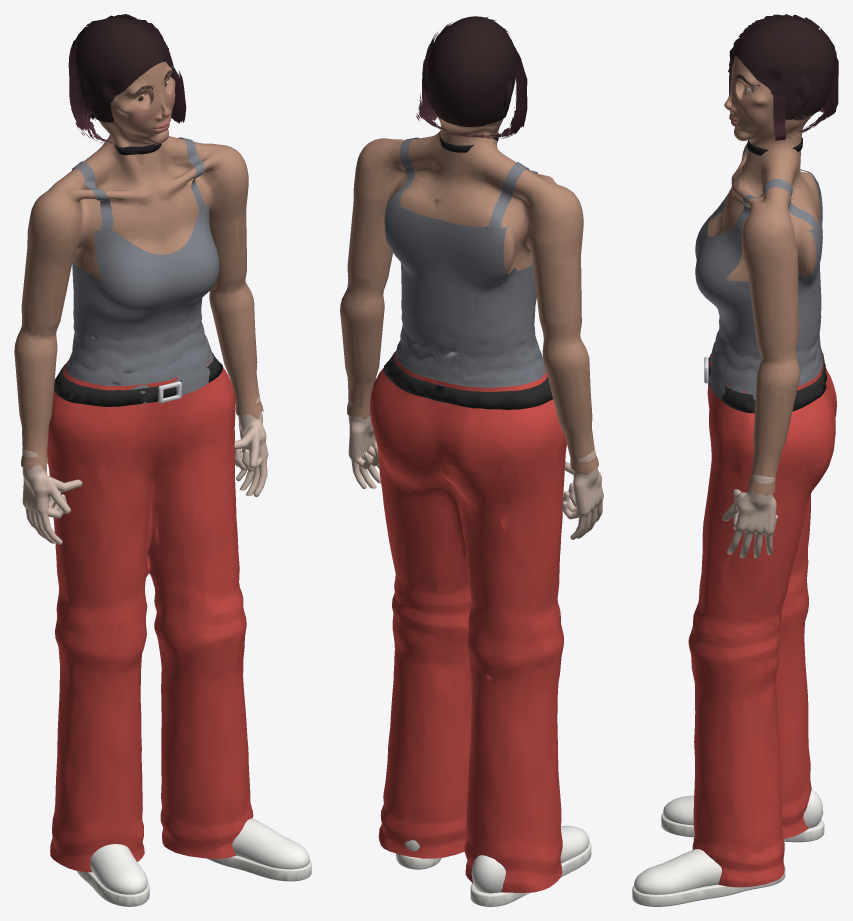
The model's file is heroine.glb.
3 views of the same model, side by side, from view 1: azimuth 30°, elevation 25°; view 2: azimuth 150°, elevation 25°; view 3: azimuth 270°, elevation 25° (orthographic). The views are drawn at different scales.
Parts seen in each view (by area): view 1: legL, legR, tank, skin, trousers, hair, armR, armL, foreR, foreL, belt, fingersR (+4 smaller); view 2: legR, legL, tank, trousers, skin, hair, armR, armL, foreR, foreL, belt, fingersR (+4 smaller); view 3: legL, tank, legR, skin, hair, armL, trousers, foreL, fingersL, belt, fistL, straps.
Part boxes in pixels (box(x1,y1,x2,y2)): legL: box(147, 425, 311, 881); legR: box(47, 448, 166, 906); tank: box(66, 202, 219, 404); skin: box(49, 62, 224, 280); trousers: box(47, 354, 235, 472); hair: box(68, 14, 186, 144); armR: box(15, 185, 84, 358); armL: box(205, 143, 253, 312); foreR: box(14, 329, 57, 470); foreL: box(209, 283, 263, 419); belt: box(54, 352, 222, 406); fingersR: box(22, 449, 70, 544); legR: box(435, 449, 591, 906); legL: box(374, 434, 471, 869); tank: box(385, 198, 545, 403); trousers: box(369, 353, 566, 484); skin: box(381, 81, 556, 274); hair: box(416, 16, 527, 138); armR: box(526, 183, 584, 353); armL: box(344, 138, 402, 309); foreR: box(542, 340, 598, 475); foreL: box(340, 290, 384, 419); belt: box(383, 351, 552, 409); fingersR: box(570, 449, 603, 539); legL: box(632, 451, 833, 906); tank: box(695, 177, 822, 400); legR: box(661, 494, 824, 842); skin: box(707, 55, 820, 281); hair: box(728, 14, 838, 140); armL: box(741, 203, 798, 365); trousers: box(707, 349, 836, 482); foreL: box(747, 359, 800, 495); fingersL: box(722, 475, 776, 558); belt: box(708, 353, 827, 413); fistL: box(733, 474, 777, 534); straps: box(735, 148, 818, 234).
Size of the model in its own units: 0.5113 by 1.7 by 0.3836.
18 materials, 3 textured.
